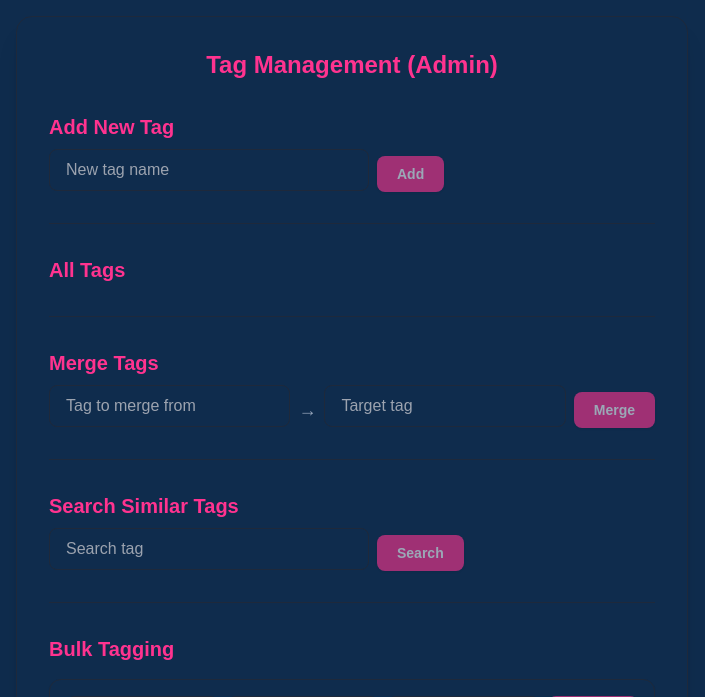
TagAdminPanel - מערכת ניהול תגיות › מחפש תגיות דומות
Type "foo" into the field with placeholder "Search tag" at (209, 549), box [49,528,369,570]
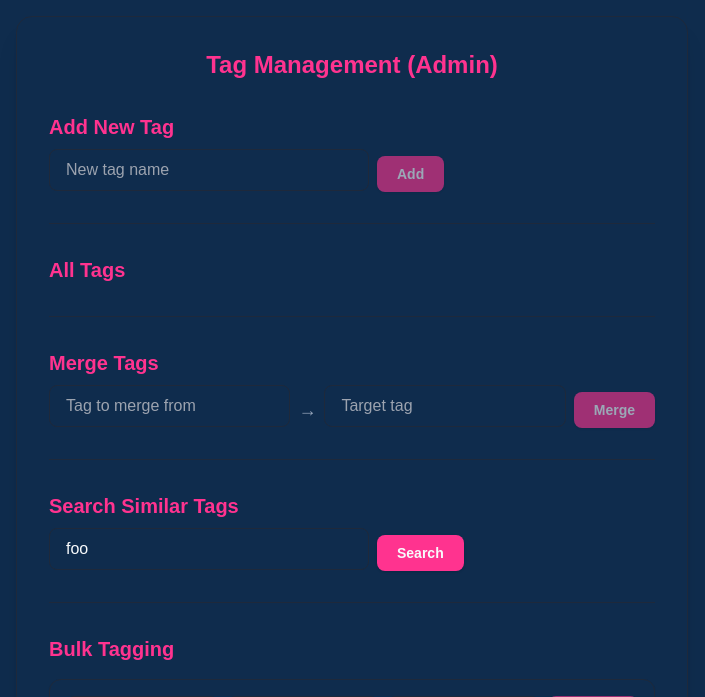
Click the button "Search" at (420, 553), box [377,535,464,571]
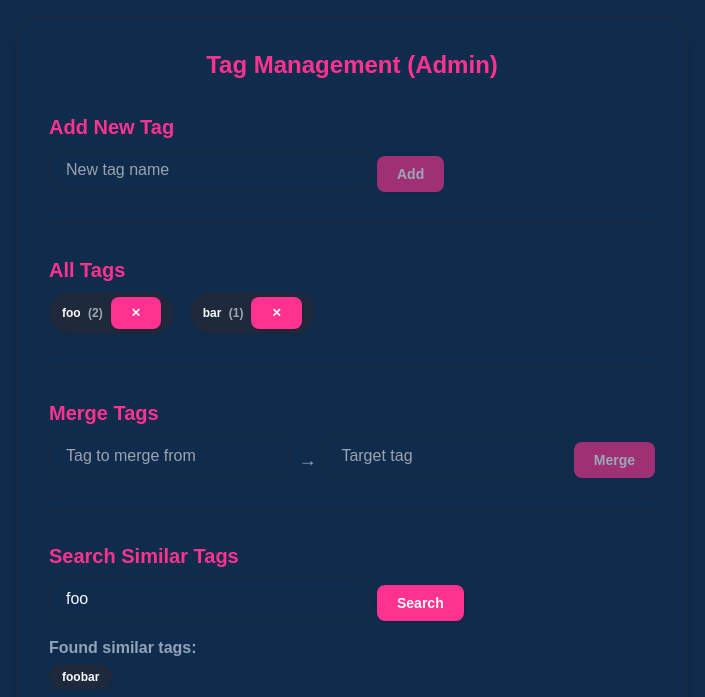
Result: the text "foobar" is shown at [49,664,112,690]
